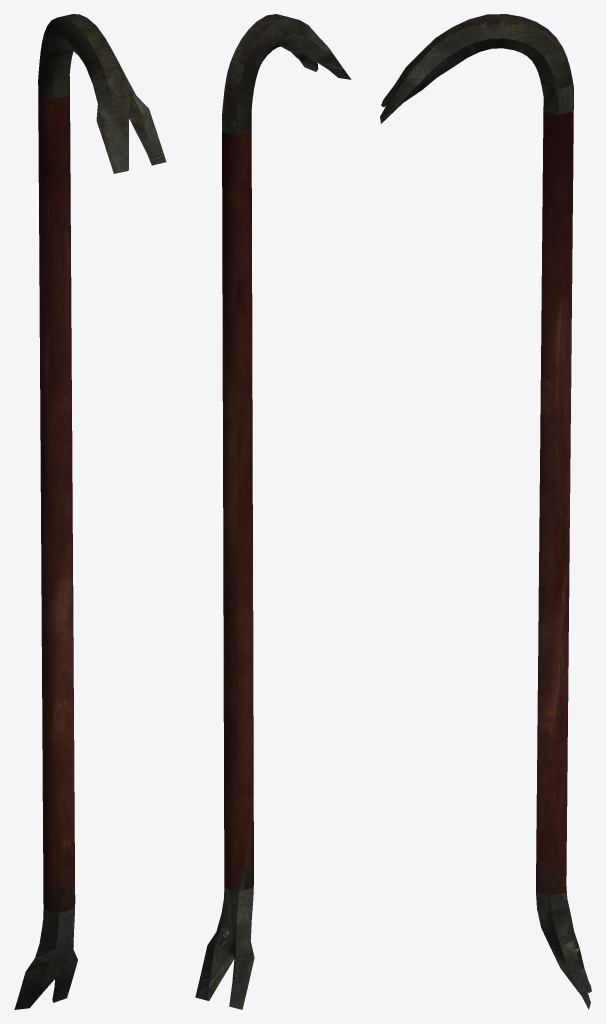
File: w_me_crowbar.fbx
The picture shows the model from 3 angles, left to right: view 1: azimuth 30°, elevation 25°; view 2: azimuth 150°, elevation 25°; view 3: azimuth 270°, elevation 25°; orthographic projection. The views are drawn at different scales.
Visible parts, largest first — view 1: w_me_crowbar; view 2: w_me_crowbar; view 3: w_me_crowbar.
Part boxes in pixels (left/top/right/bottom): w_me_crowbar: left=14, top=14, right=166, bottom=1009; w_me_crowbar: left=195, top=14, right=351, bottom=1009; w_me_crowbar: left=380, top=14, right=591, bottom=1009.
Bounding box in the file's own units: 4.02 × 65.18 × 12.79.
Materials: 2 (2 with a texture image).
